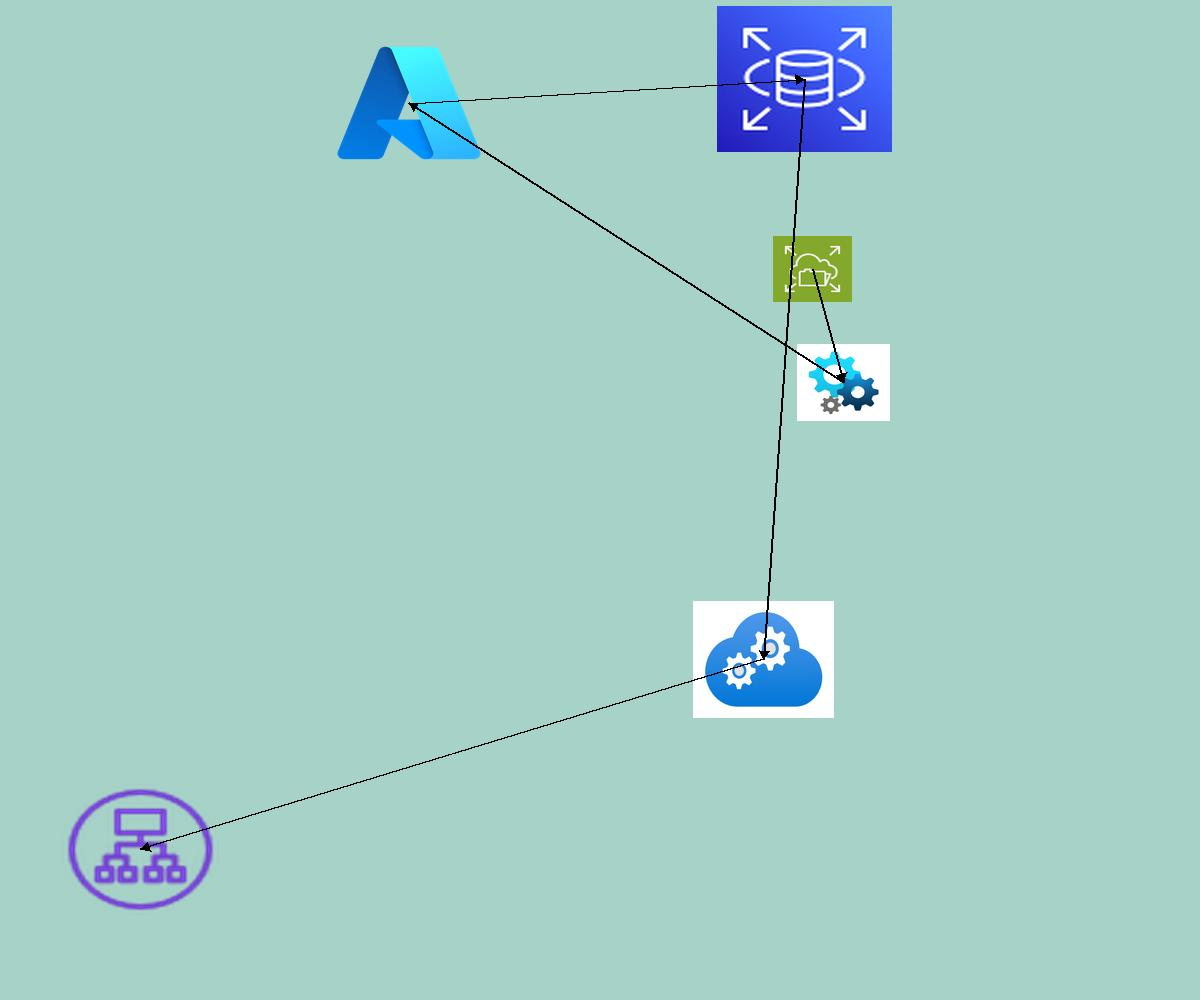AWS-EFS: (773, 236, 852, 302)
AWS-RDS: (717, 6, 892, 152)
AWS-Res_Elastic-Load-Balancing_Application-Load-Balancer: (62, 784, 219, 915)
Azure_api: (797, 344, 890, 421)
Azure_cloud_services: (693, 601, 834, 718)
Azure_services: (331, 38, 487, 168)
